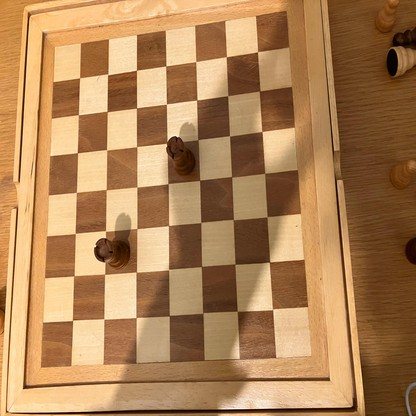pawn_white: (392, 157, 416, 189)
rock_black: (167, 137, 196, 175), (94, 239, 131, 267)
